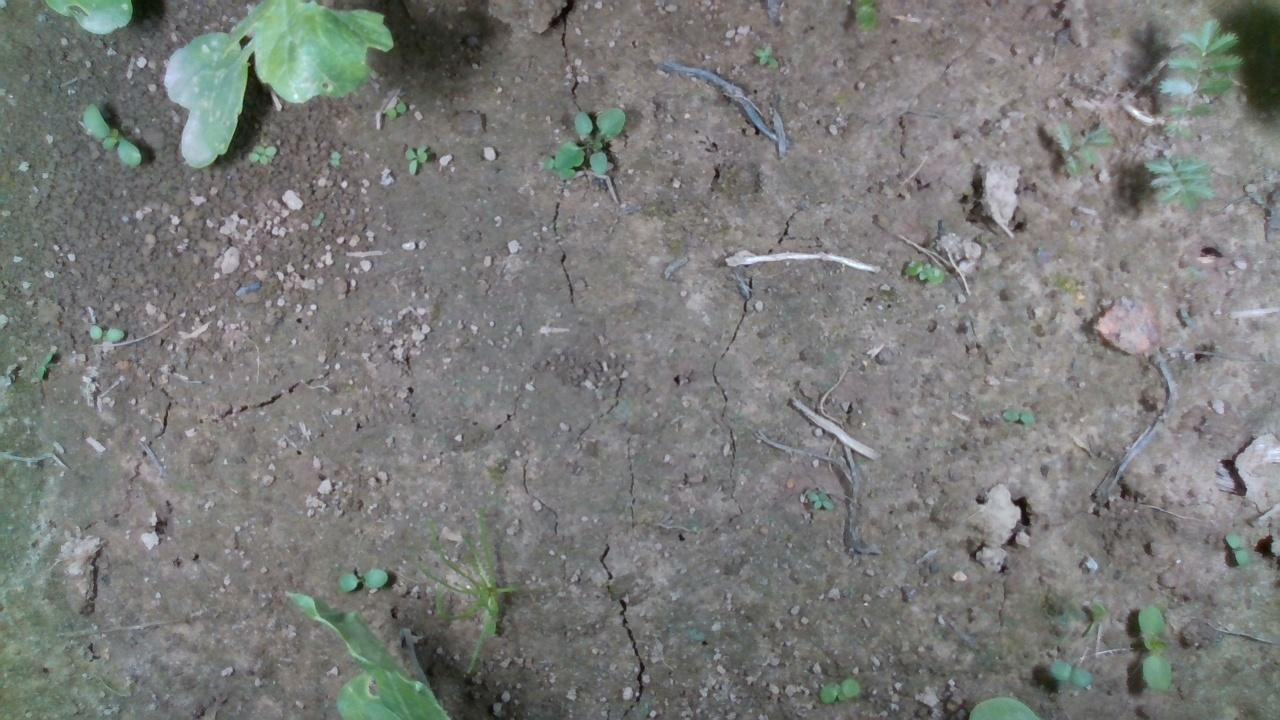weed: (80, 101, 143, 169), (1136, 602, 1172, 690), (1046, 659, 1093, 688), (333, 568, 387, 592), (816, 677, 859, 704), (904, 259, 945, 284), (1223, 529, 1249, 565), (750, 40, 778, 69), (245, 141, 277, 166), (403, 143, 428, 174), (87, 323, 126, 341), (34, 347, 53, 382), (1001, 408, 1034, 424), (383, 101, 407, 118), (327, 148, 339, 168)
